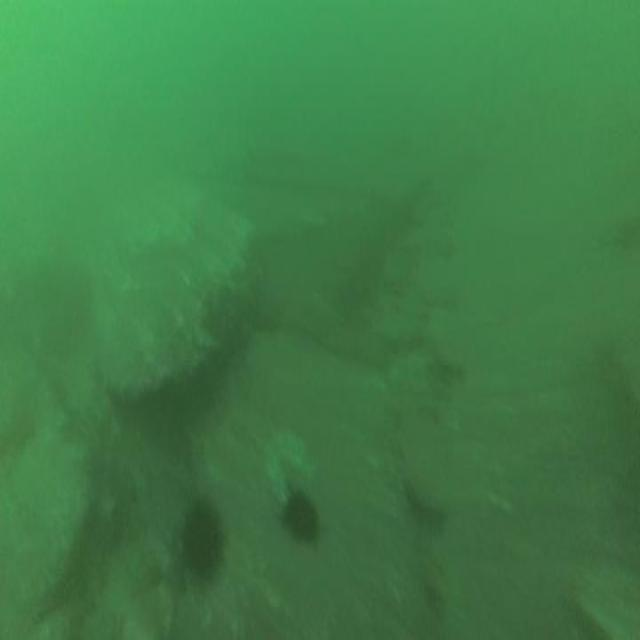echinus: (181, 501, 225, 575), (283, 491, 319, 542)
